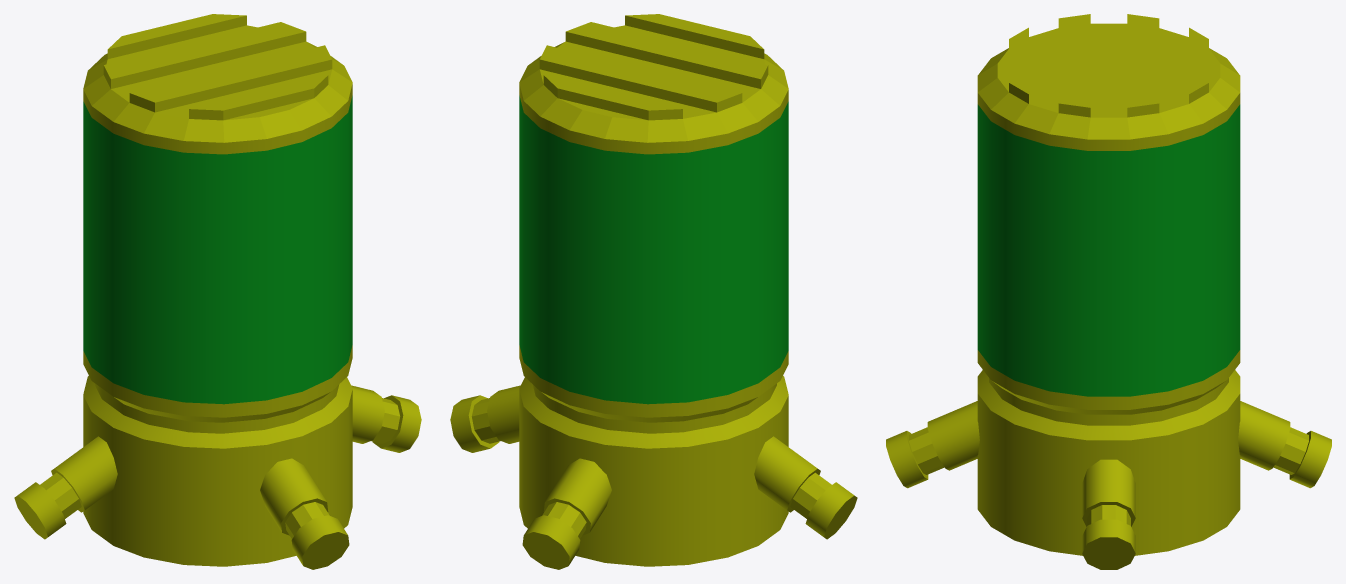
File: cuve_lp.FBX
3 renders of one model, left to right at view 1: azimuth 30°, elevation 25°; view 2: azimuth 150°, elevation 25°; view 3: azimuth 270°, elevation 25°, orthographic.
Visible parts, largest first — view 1: Cylinder001, Object001; view 2: Cylinder001, Object001; view 3: Cylinder001, Object001.
Boxes of the visible parts, x1,y1,x2,y2 form: Cylinder001: (14, 14, 421, 569); Object001: (83, 95, 352, 404); Cylinder001: (450, 14, 857, 569); Object001: (519, 95, 788, 404); Cylinder001: (886, 14, 1331, 569); Object001: (977, 104, 1240, 396).
Bounding box in the file's own units: 96.9 × 106 × 96.9.
